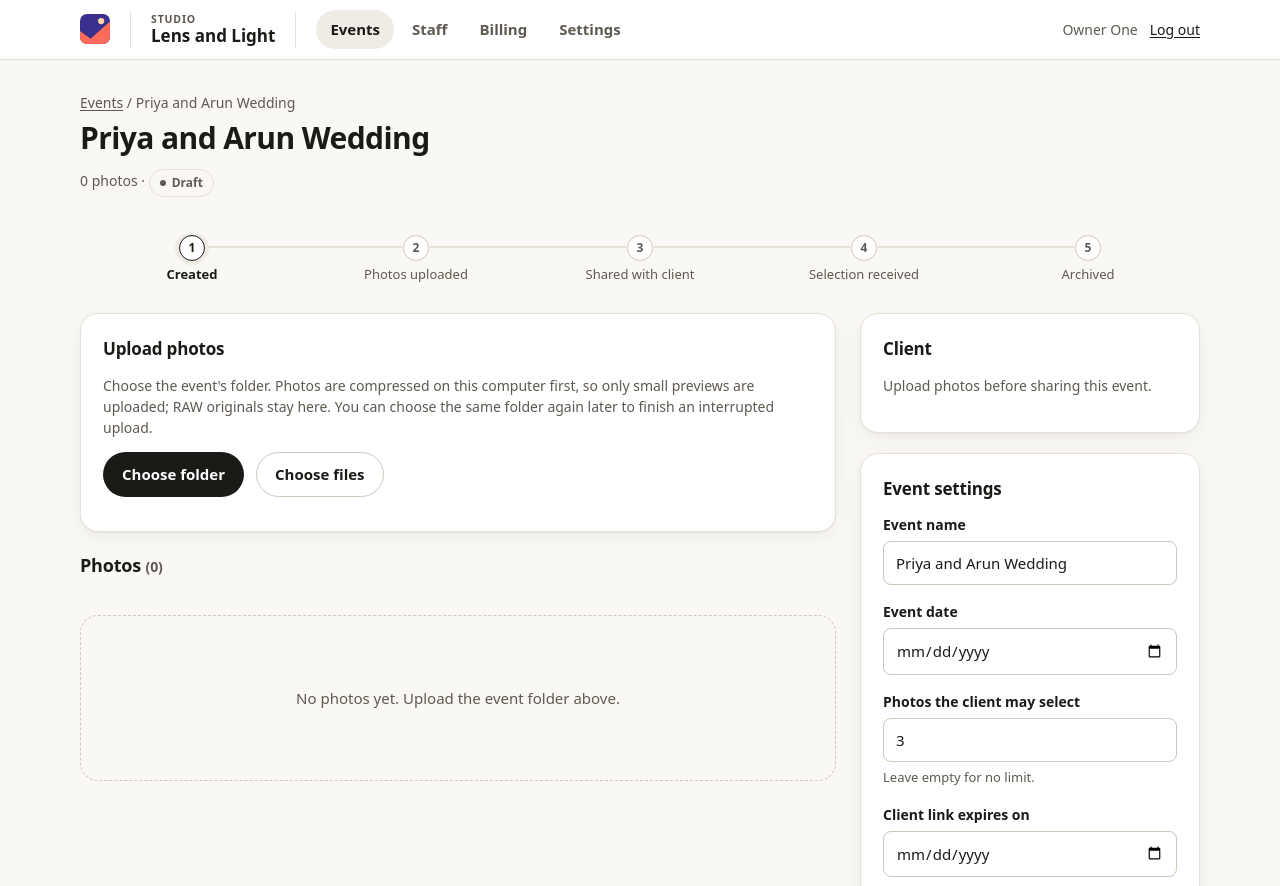
Test: event settings › shows field errors from the server
Expected: the heading "Event settings" is shown, [883,477,1002,500]
Clear the field labelled "Event name". click: (1030, 563)
box: [883,540,1177,585]
(page scrolled)
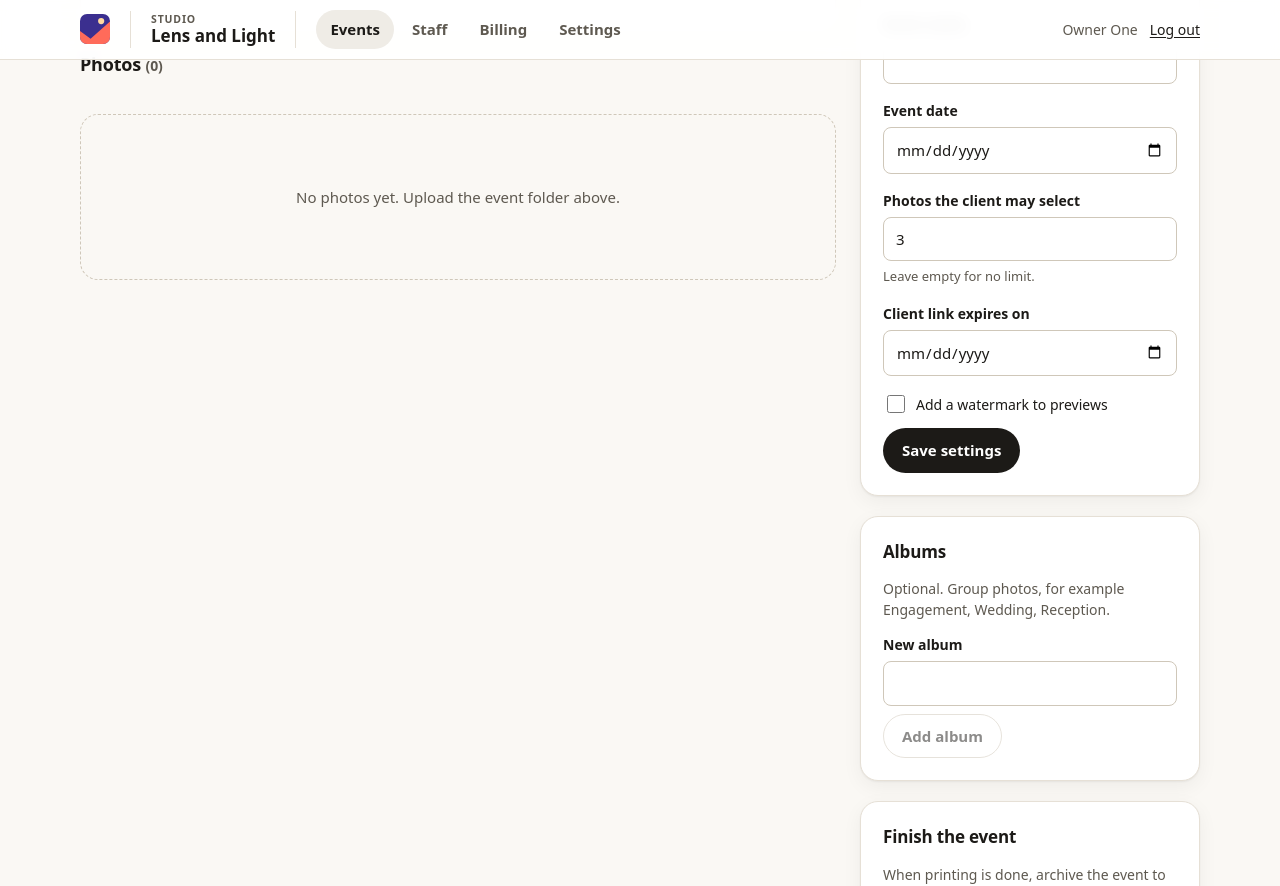
Click the button "Save settings". click: (952, 450)
box: [883,428,1020,472]
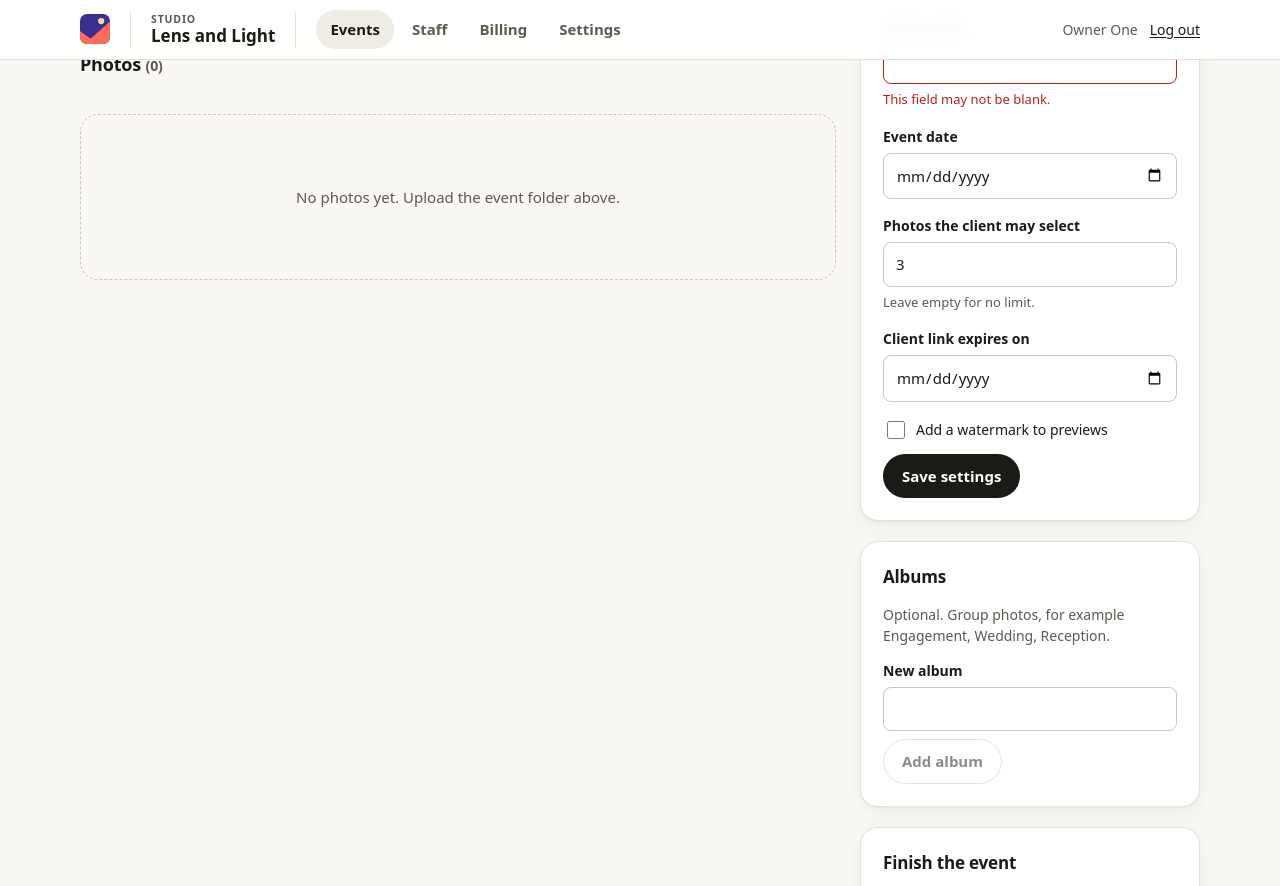
Result: the text "This field may not be blank." is shown at [883,90,1050,108]
